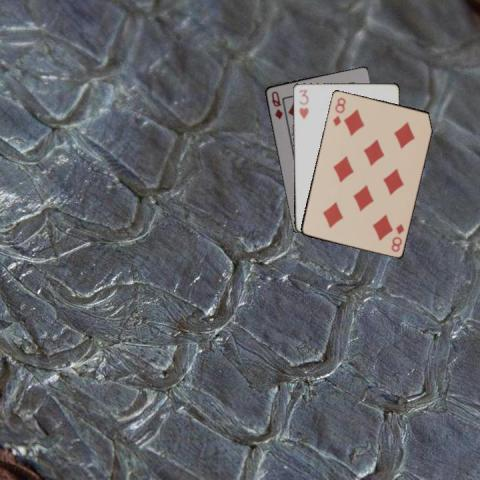3h: (296, 87, 309, 120)
8d: (330, 94, 347, 127), (388, 221, 405, 253)
Qd: (269, 88, 284, 120)
